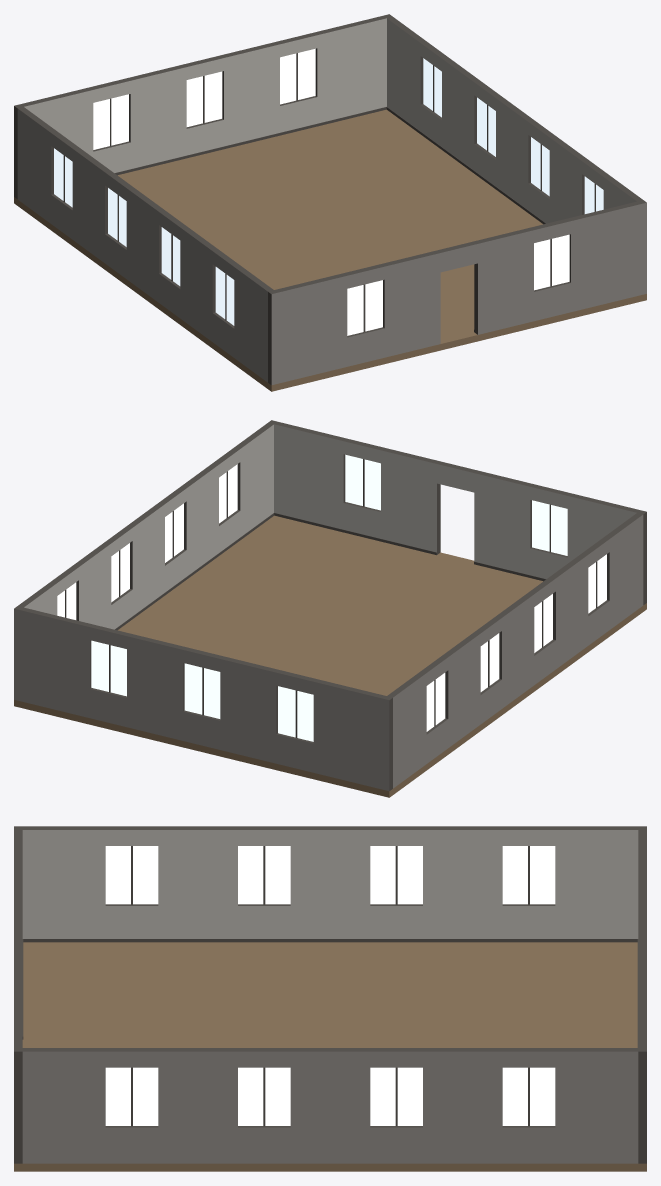
The model's file is Apartment_Small_Shell.glb.
The picture shows the model from 3 angles, top to bottom: view 1: azimuth 30°, elevation 25°; view 2: azimuth 150°, elevation 25°; view 3: azimuth 270°, elevation 25°; orthographic projection. The views are drawn at different scales.
Parts seen in each view (by area): view 1: Apartment_Small_Shell; view 2: Apartment_Small_Shell; view 3: Apartment_Small_Shell.
Part boxes in pixels (box(x1,y1,x2,y2)): Apartment_Small_Shell: box(14, 14, 646, 391); Apartment_Small_Shell: box(14, 420, 646, 797); Apartment_Small_Shell: box(14, 826, 646, 1171).
Size of what is drawn, in the model's own units: 12.08 by 3 by 14.35.
